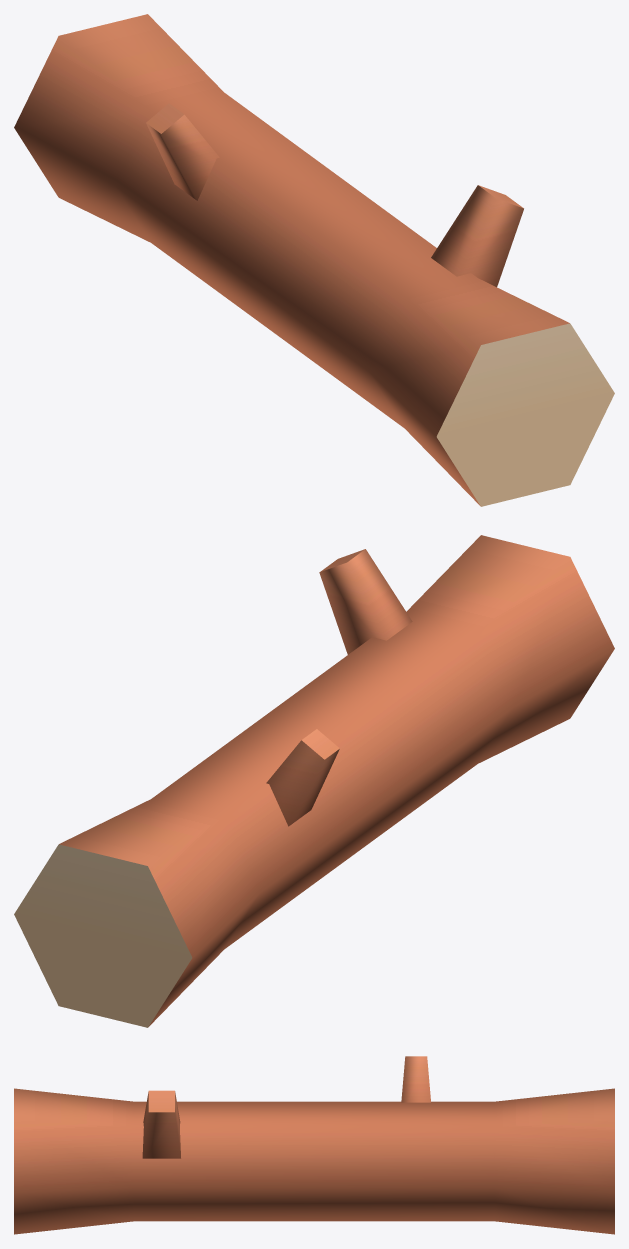
File: tree-log.glb
The picture shows the model from 3 angles, top to bottom: view 1: azimuth 30°, elevation 25°; view 2: azimuth 150°, elevation 25°; view 3: azimuth 270°, elevation 25°; orthographic projection. The views are drawn at different scales.
Visible parts, largest first — view 1: tree-log; view 2: tree-log; view 3: tree-log.
Boxes of the visible parts, x1,y1,x2,y2 form: tree-log: [14, 14, 614, 506]; tree-log: [14, 535, 614, 1027]; tree-log: [14, 1056, 614, 1234].
Bounding box in the file's own units: 0.2495 × 0.2771 × 1.
Materials: 1 (1 with a texture image).
